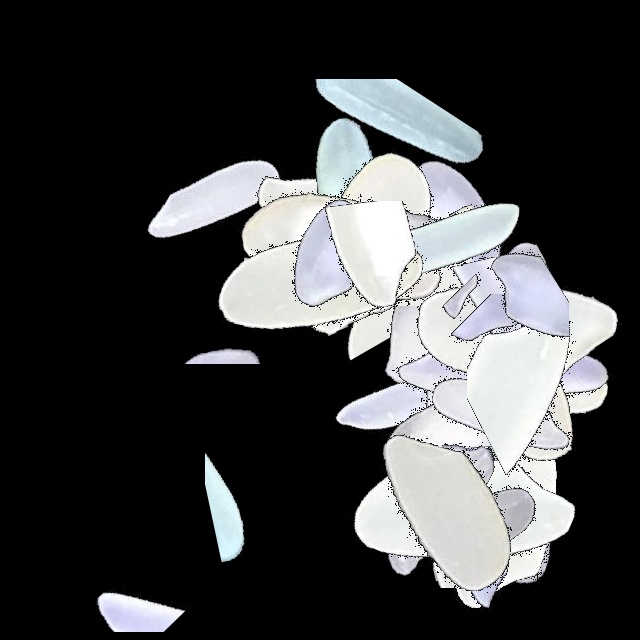Broken: (390, 315, 640, 484), (467, 253, 630, 503), (375, 257, 625, 419), (249, 79, 499, 229), (274, 306, 524, 455), (249, 201, 499, 349), (331, 124, 472, 374), (380, 254, 520, 504), (430, 197, 569, 447), (453, 369, 590, 619), (416, 390, 551, 640), (350, 459, 600, 588), (284, 173, 534, 295), (389, 294, 639, 405), (16, 523, 266, 632), (277, 143, 527, 251), (205, 353, 310, 603), (209, 198, 307, 448), (81, 268, 331, 364), (161, 438, 411, 529), (390, 342, 640, 428), (377, 263, 627, 343), (342, 335, 592, 414)
Full: (293, 375, 543, 625), (326, 94, 576, 344), (91, 78, 341, 328), (227, 111, 477, 361), (390, 257, 640, 507), (390, 390, 640, 640), (364, 230, 614, 480), (309, 255, 559, 505), (318, 257, 568, 507), (233, 134, 483, 384), (375, 286, 625, 536), (390, 173, 640, 423), (379, 390, 629, 640), (377, 248, 627, 498), (390, 260, 640, 510), (374, 278, 624, 528), (350, 390, 600, 640), (390, 199, 640, 449), (338, 390, 588, 640), (227, 78, 477, 328), (238, 118, 488, 368), (216, 131, 466, 381), (303, 119, 553, 369), (375, 287, 625, 537), (195, 153, 445, 403), (206, 128, 456, 378), (321, 390, 571, 640)
